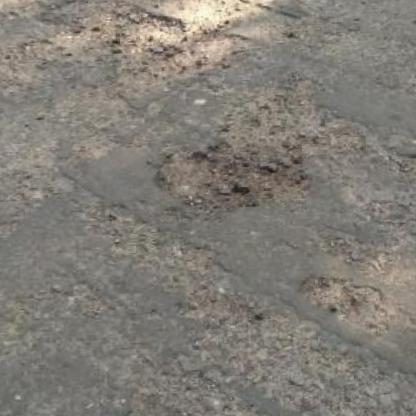pothole: (151, 135, 318, 224), (106, 7, 239, 91), (297, 270, 385, 322)
